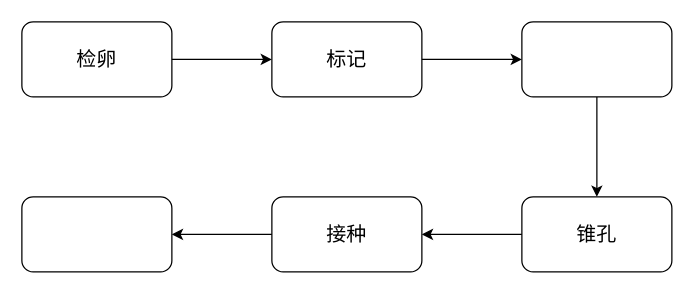
Some shapes in this 694 by 294 pixel diagram are drawn without their labels. Each missing label, with the box of its shape:
消毒: (521, 21, 672, 97)
石蜡封孔: (21, 196, 172, 272)
